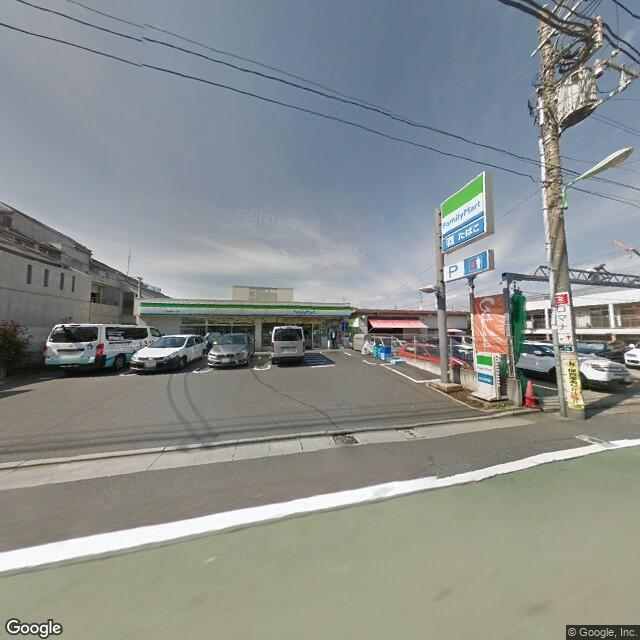family_mart: (135, 298, 351, 324), (439, 168, 490, 241), (473, 351, 497, 388)
